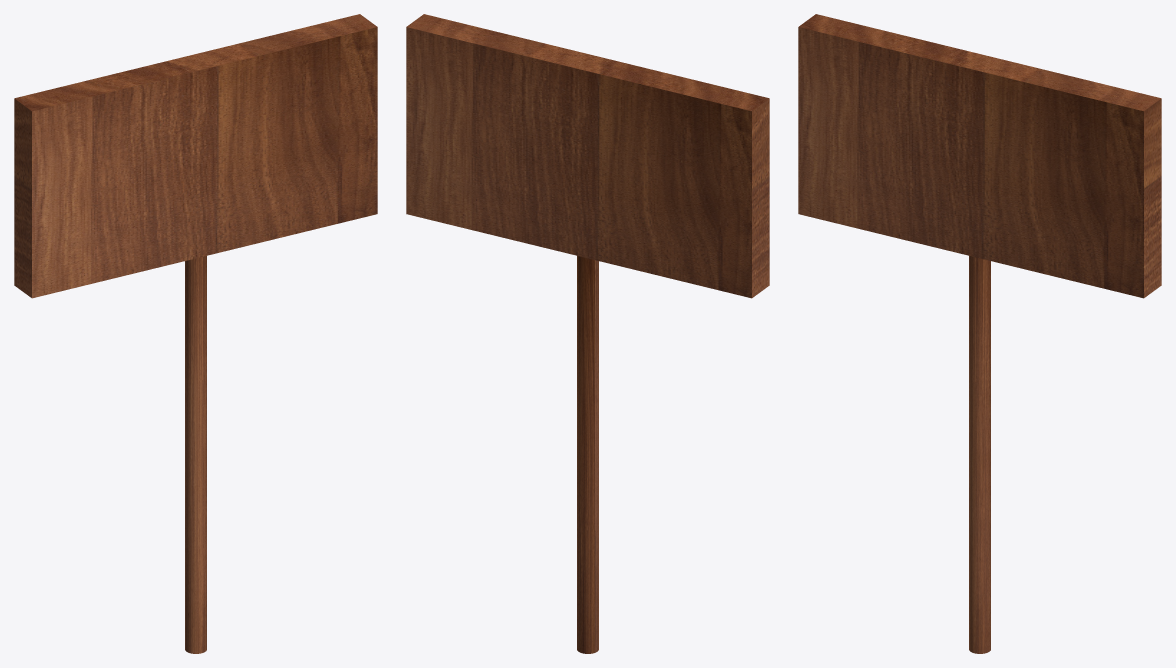
File: Sign.fbx
The picture shows the model from 3 angles, left to right: view 1: azimuth 30°, elevation 25°; view 2: azimuth 150°, elevation 25°; view 3: azimuth 330°, elevation 25°; orthographic projection.
Parts seen in each view (by area): view 1: Cylinder; view 2: Cylinder; view 3: Cylinder.
Boxes of the visible parts, x1,y1,x2,y2 form: Cylinder: (14,14,377,653); Cylinder: (406,14,769,653); Cylinder: (798,14,1161,653).
Size of the model in its own units: 387 by 627 by 34.41.
